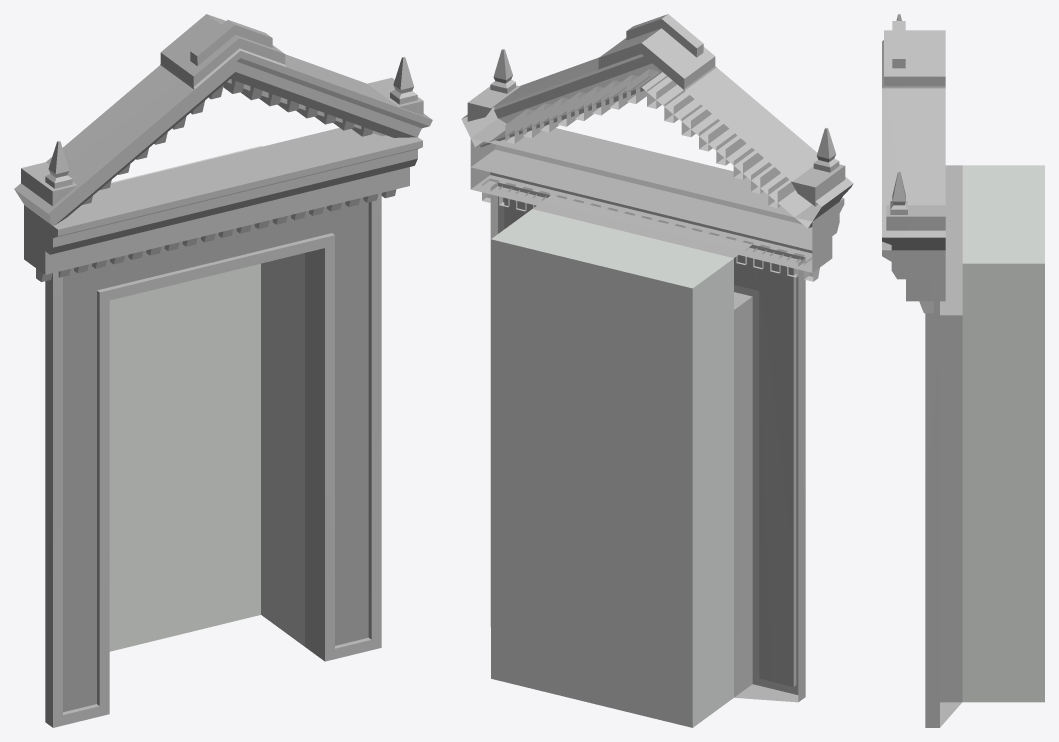
The model's file is Museum_DecorationAboveDoor.fbx.
The picture shows the model from 3 angles, left to right: view 1: azimuth 30°, elevation 25°; view 2: azimuth 150°, elevation 25°; view 3: azimuth 270°, elevation 25°; orthographic projection. The views are drawn at different scales.
Visible parts, largest first — view 1: Cube.002; view 2: Cube.002; view 3: Cube.002.
Part boxes in pixels (<box>): Cube.002: <box>14,14,432,727</box>; Cube.002: <box>461,14,853,727</box>; Cube.002: <box>882,14,1044,727</box>.
Size of the model in its own units: 3.19 by 5.35 by 1.25.
